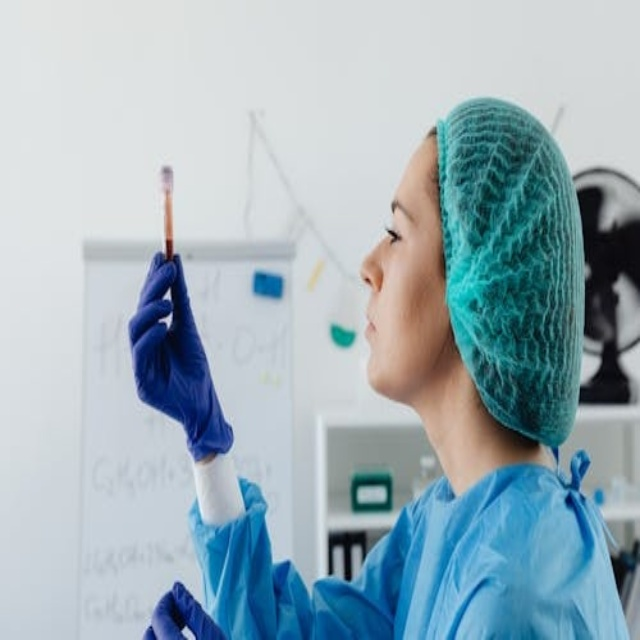Guantes: (127, 248, 234, 464), (144, 581, 232, 639)
Sin_gafas: (379, 192, 422, 258)
Sin_mascara: (353, 302, 403, 388)
